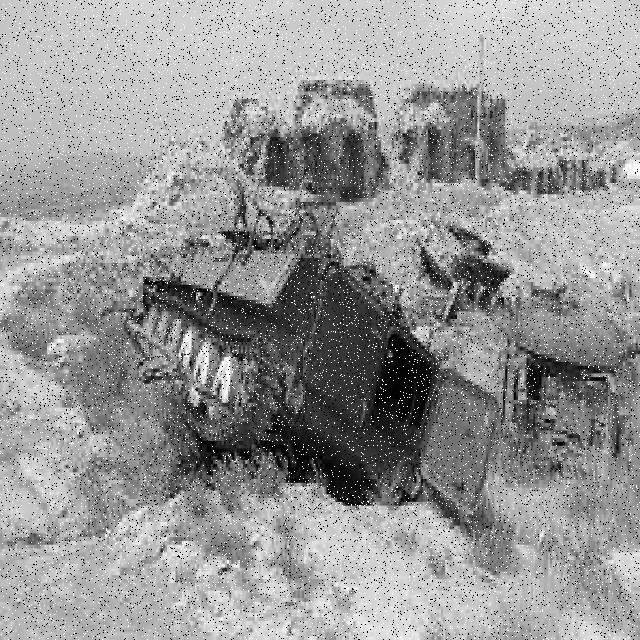MIL_MBT: (143, 214, 470, 509), (507, 277, 621, 455), (431, 219, 505, 310)
